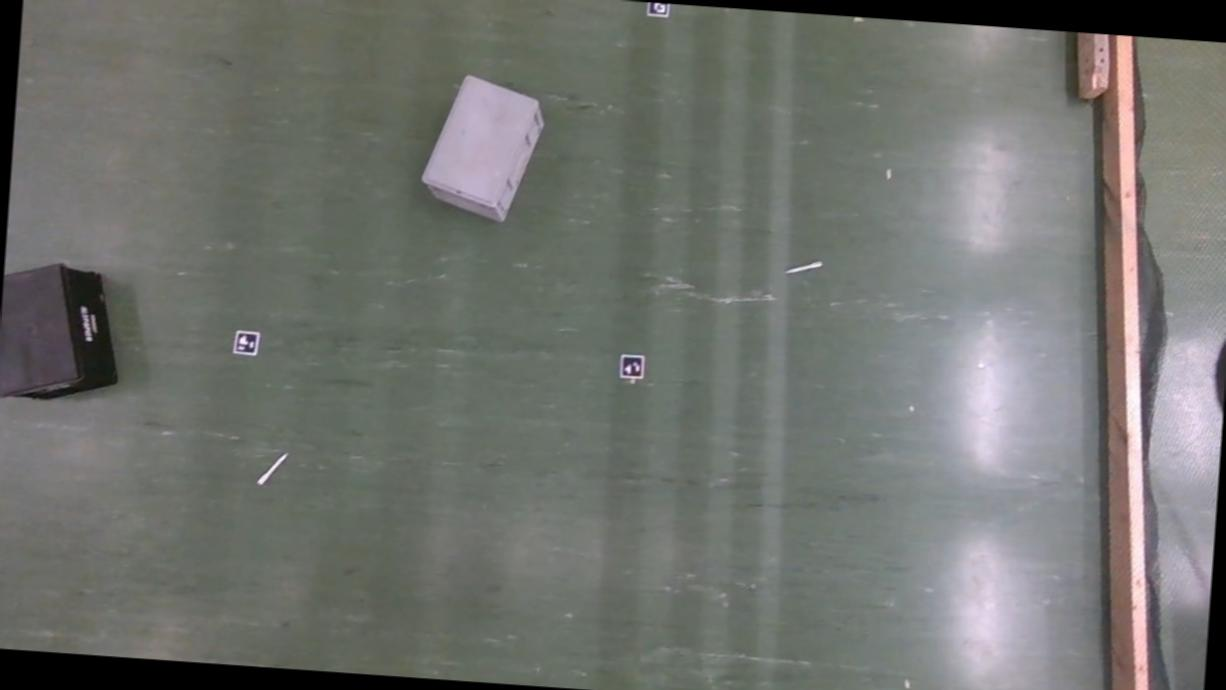probes: (258, 452, 286, 488), (790, 258, 823, 276)
rako: (419, 74, 546, 226), (0, 260, 125, 407)
